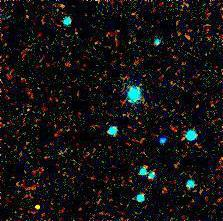star: (23, 192, 53, 221)
